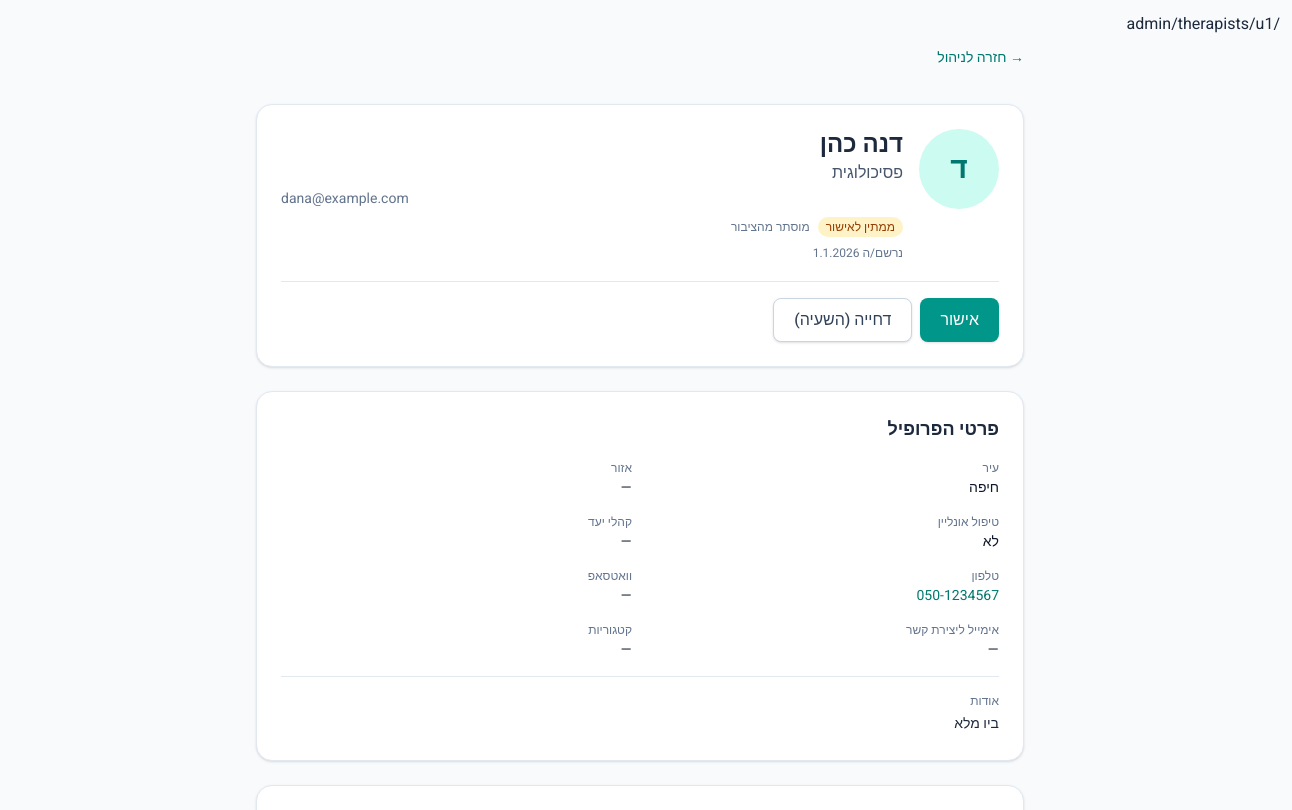
it: AdminTherapistPage: approve, suspend, reactivate › approves after confirmation and shows the new state from the server
The image size is (1292, 810).
Check: the heading "דנה כהן" is shown, box [820,127,903,162]
Click the button "אישור": (960, 320) [920,298,999,342]
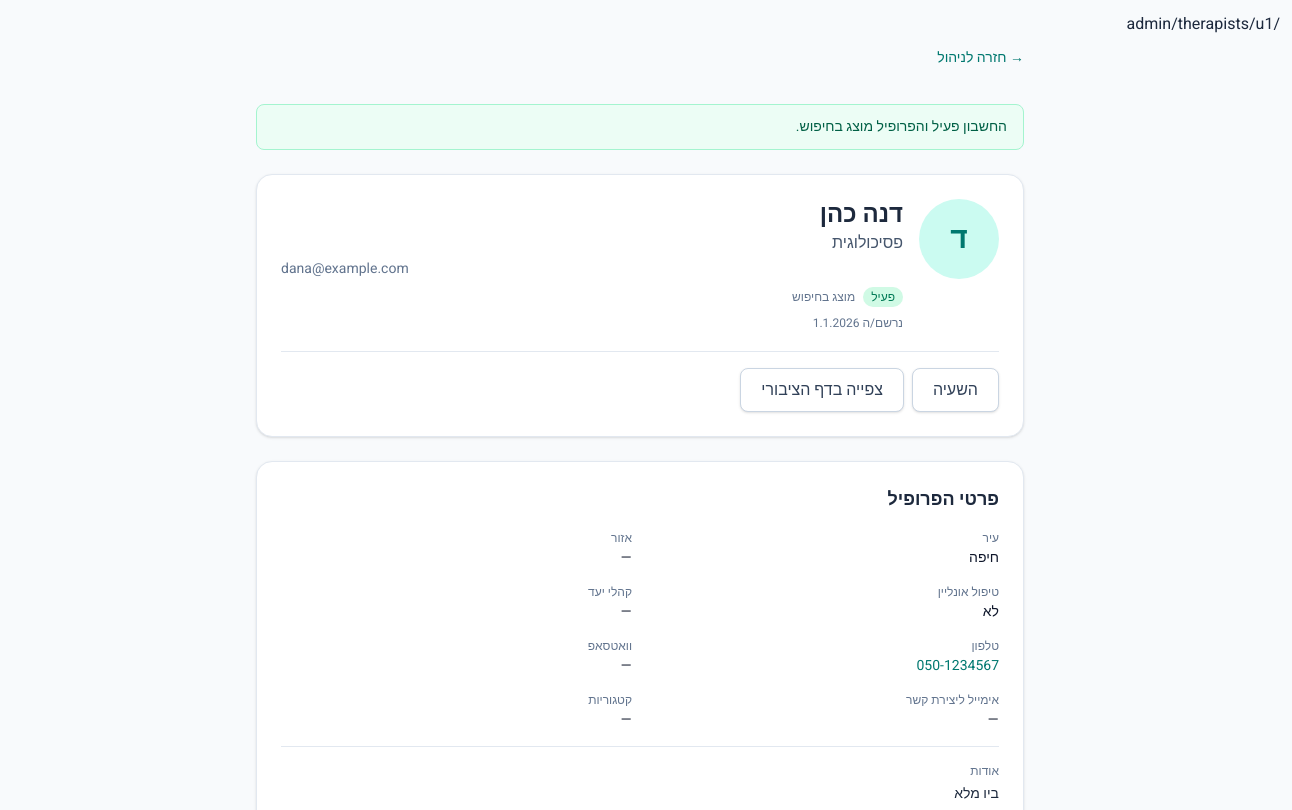
Check: the button "השעיה" is shown, box [912,368,999,412]
Check: the text "החשבון פעיל והפרופיל מוצג בחיפוש." is shown, box [256,104,1024,150]
Check: the text "מוצג בחיפוש" is shown, box [792,289,855,305]
